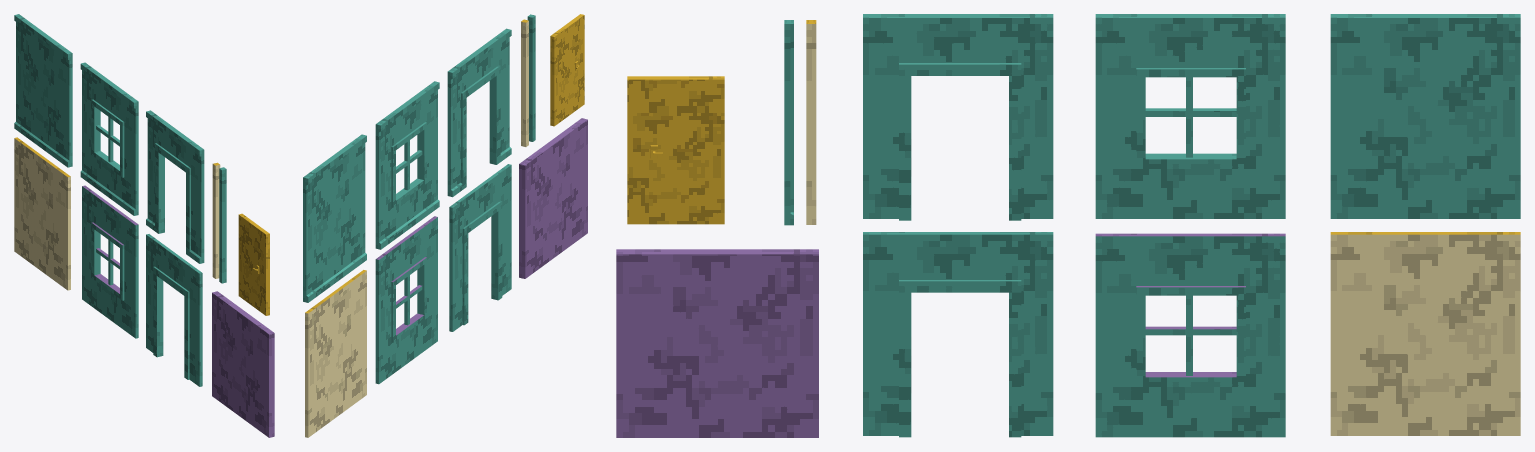
File: SimplePolygon_MiniInteriorWalls_CompleteSet.fbx
The picture shows the model from 3 angles, left to right: view 1: azimuth 30°, elevation 25°; view 2: azimuth 150°, elevation 25°; view 3: azimuth 270°, elevation 25°; orthographic projection. The views are drawn at different scales.
Visible parts, largest first — view 1: SM_Floor_1x1, SM_Wall_Trim, SM_Wall, SM_Window_Trim, SM_Window, SM_Doorframe_Trim, SM_Doorframe, SM_Door, SM_CornerPost, SM_CornerPost_Trim; view 2: SM_Floor_1x1, SM_Wall_Trim, SM_Wall, SM_Window_Trim, SM_Window, SM_Doorframe_Trim, SM_Doorframe, SM_Door, SM_CornerPost, SM_CornerPost_Trim; view 3: SM_Wall_Trim, SM_Wall, SM_Floor_1x1, SM_Window_Trim, SM_Window, SM_Doorframe_Trim, SM_Doorframe, SM_Door, SM_CornerPost, SM_CornerPost_Trim.
Boxes of the visible parts, box(x1,y1,x2,y2) form: SM_Floor_1x1: box(212, 291, 274, 437); SM_Wall_Trim: box(14, 14, 72, 167); SM_Wall: box(14, 137, 70, 290); SM_Window_Trim: box(80, 62, 138, 215); SM_Window: box(82, 185, 138, 338); SM_Doorframe_Trim: box(146, 110, 204, 263); SM_Doorframe: box(146, 234, 202, 386); SM_Door: box(238, 213, 269, 315); SM_CornerPost: box(212, 162, 220, 278); SM_CornerPost_Trim: box(219, 167, 226, 283); SM_Floor_1x1: box(519, 118, 587, 278); SM_Wall_Trim: box(303, 134, 366, 302); SM_Wall: box(305, 270, 366, 437); SM_Window_Trim: box(375, 81, 439, 249); SM_Window: box(375, 216, 437, 384); SM_Doorframe_Trim: box(447, 28, 511, 197); SM_Doorframe: box(449, 164, 511, 331); SM_Door: box(550, 14, 584, 126); SM_CornerPost: box(521, 19, 528, 146); SM_CornerPost_Trim: box(527, 14, 535, 141); SM_Wall_Trim: box(1330, 14, 1520, 218); SM_Wall: box(1330, 232, 1520, 435); SM_Floor_1x1: box(616, 249, 818, 437); SM_Window_Trim: box(1095, 14, 1285, 218); SM_Window: box(1095, 233, 1285, 437); SM_Doorframe_Trim: box(863, 14, 1053, 220); SM_Doorframe: box(863, 232, 1053, 437); SM_Door: box(627, 76, 724, 224); SM_CornerPost: box(806, 20, 816, 224); SM_CornerPost_Trim: box(784, 20, 793, 225).
Bounding box in the file's own units: 32.61 × 730 × 1427.
